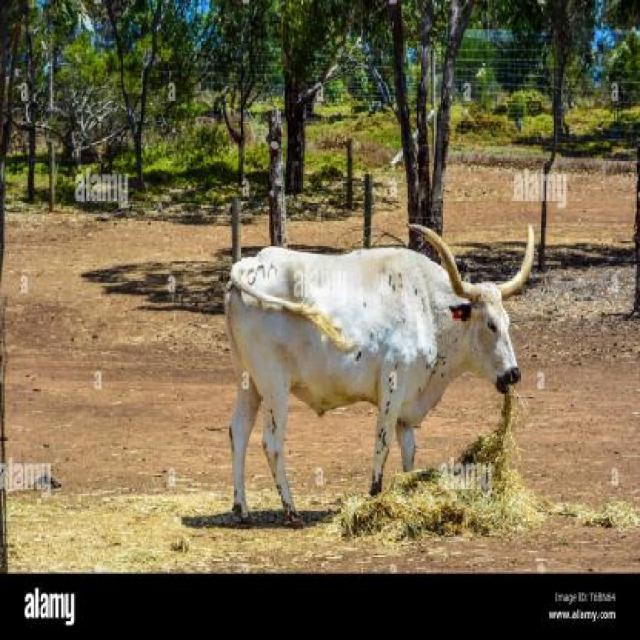Cow: (218, 228, 542, 542)
